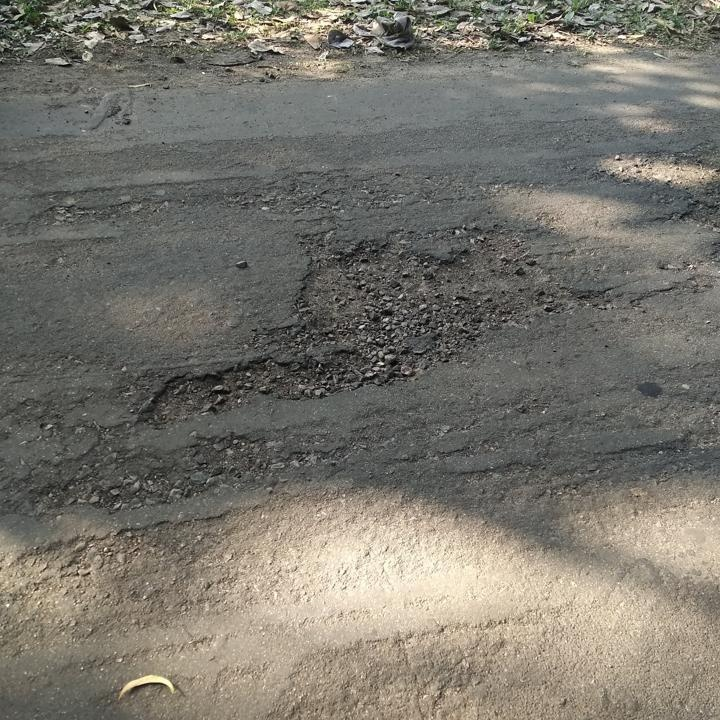pothole: (136, 220, 624, 433), (674, 194, 719, 236)
